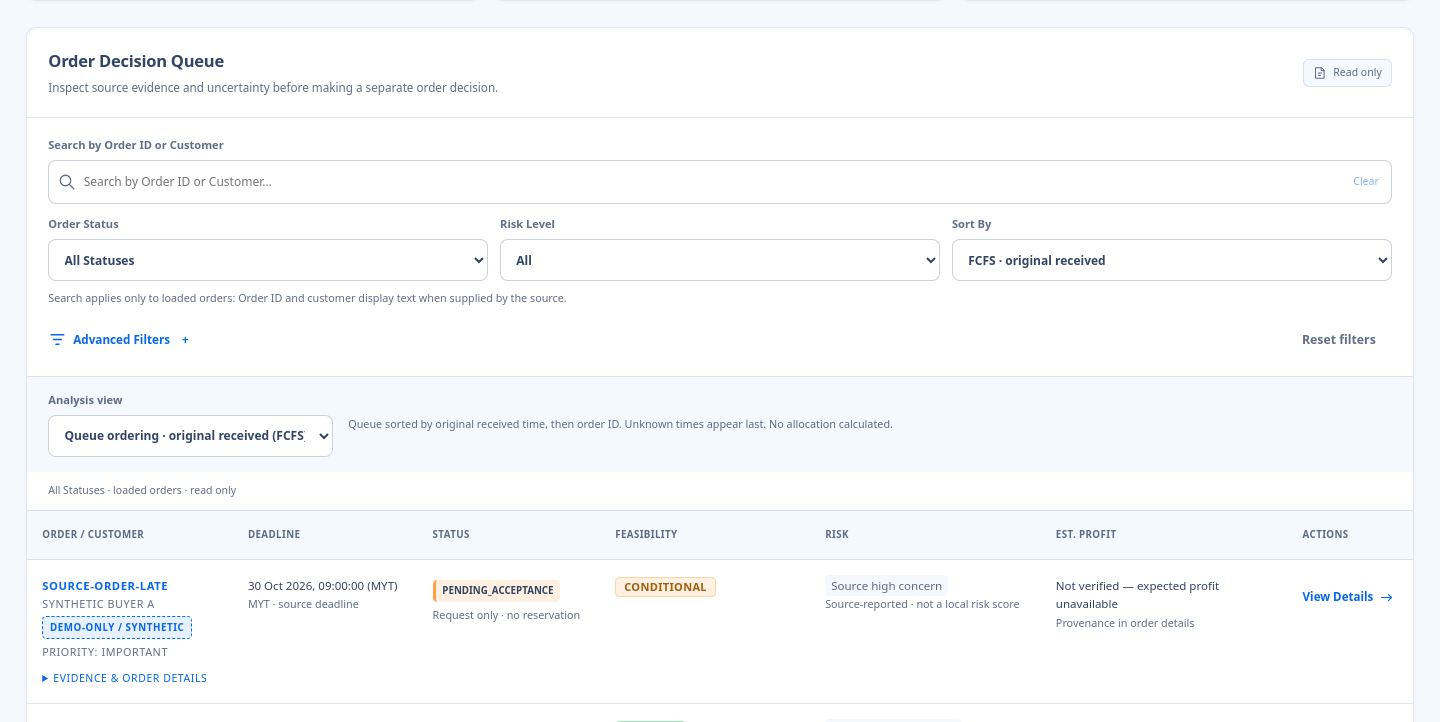
exposes advanced source-based filters and composes them with search, risk and Analysis
The width and height of the screenshot is (1440, 722).
(page scrolled)
Click the heading "Advanced Filters". click: (109, 340)
box: [48, 330, 170, 349]
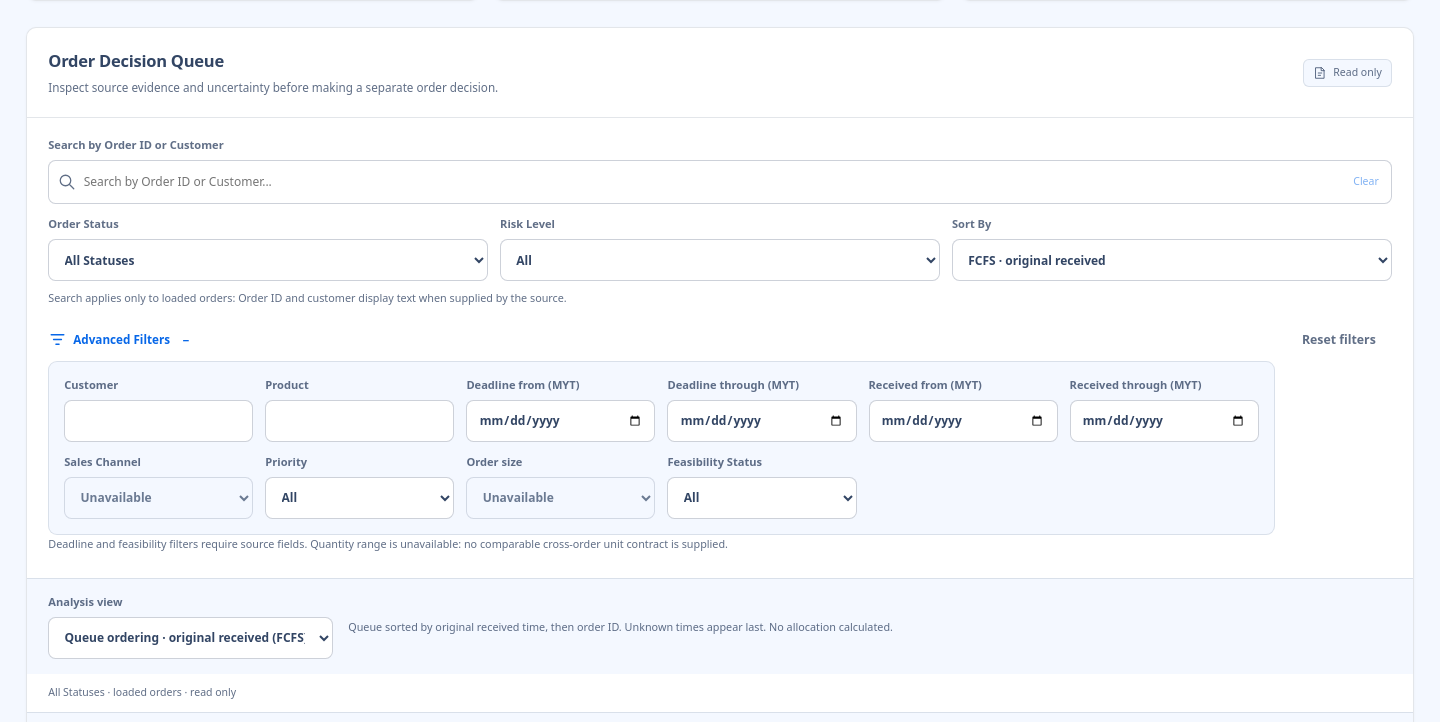
Type "2026-10-25" into the date field labelled "Deadline from (MYT)". click: (561, 421)
box: [466, 400, 656, 442]
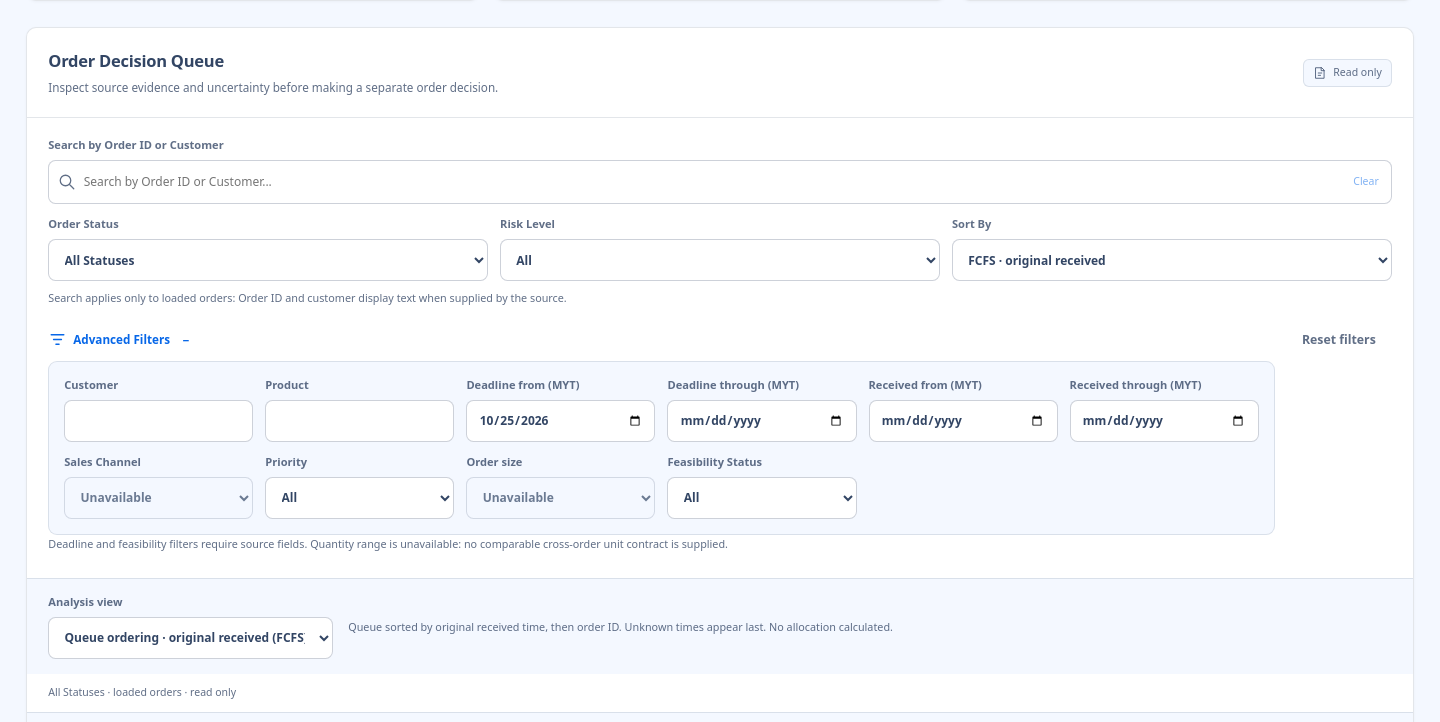
Type "2026-10-25" into the date field labelled "Deadline through (MYT)". click: (762, 421)
box: [667, 400, 856, 442]
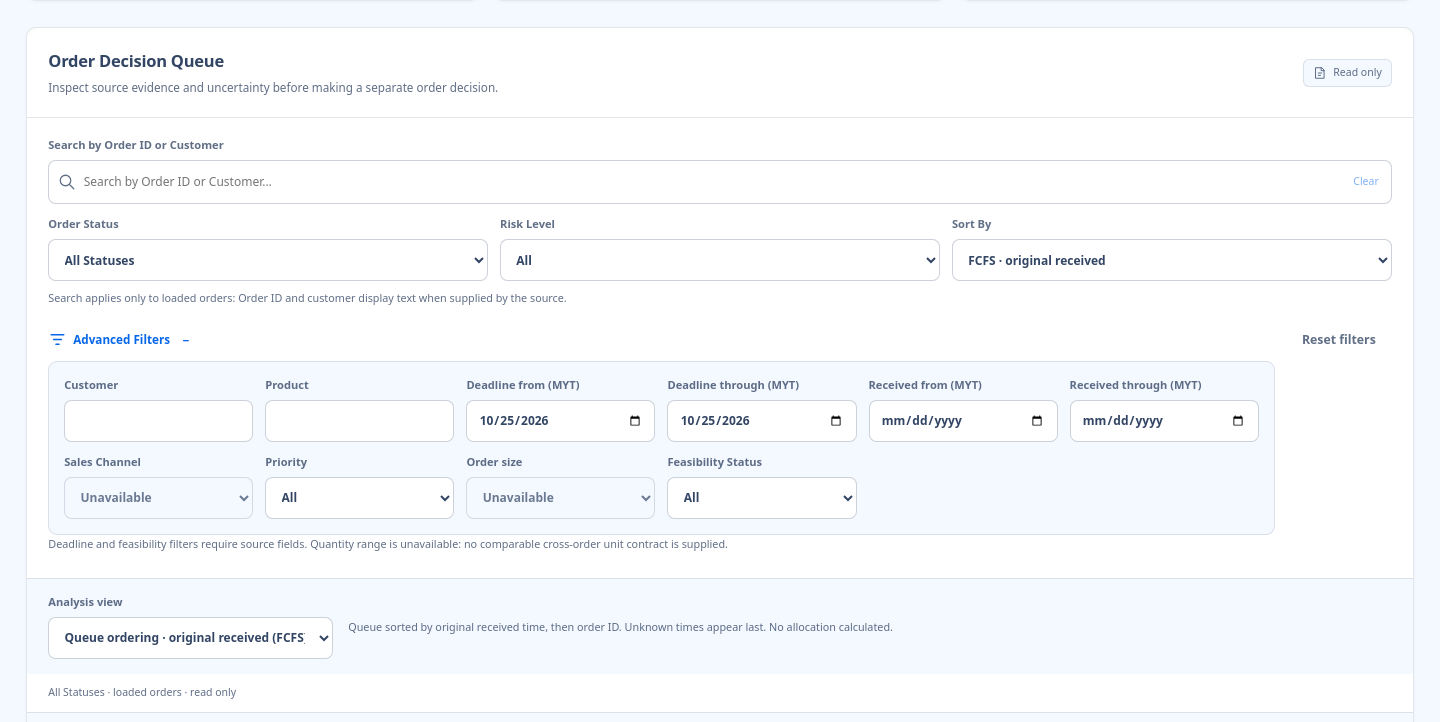
Select "FEASIBLE" in the dropdown labelled "Feasibility Status". click: (762, 498)
box: [667, 477, 856, 519]
Select "Source review required" in the dropdown labelled "Risk Level". click: (720, 260)
box: [500, 239, 940, 281]
Type "buyer b" into the search field labelled "Search by Order ID or Customer". click: (713, 182)
box: [84, 161, 1343, 203]
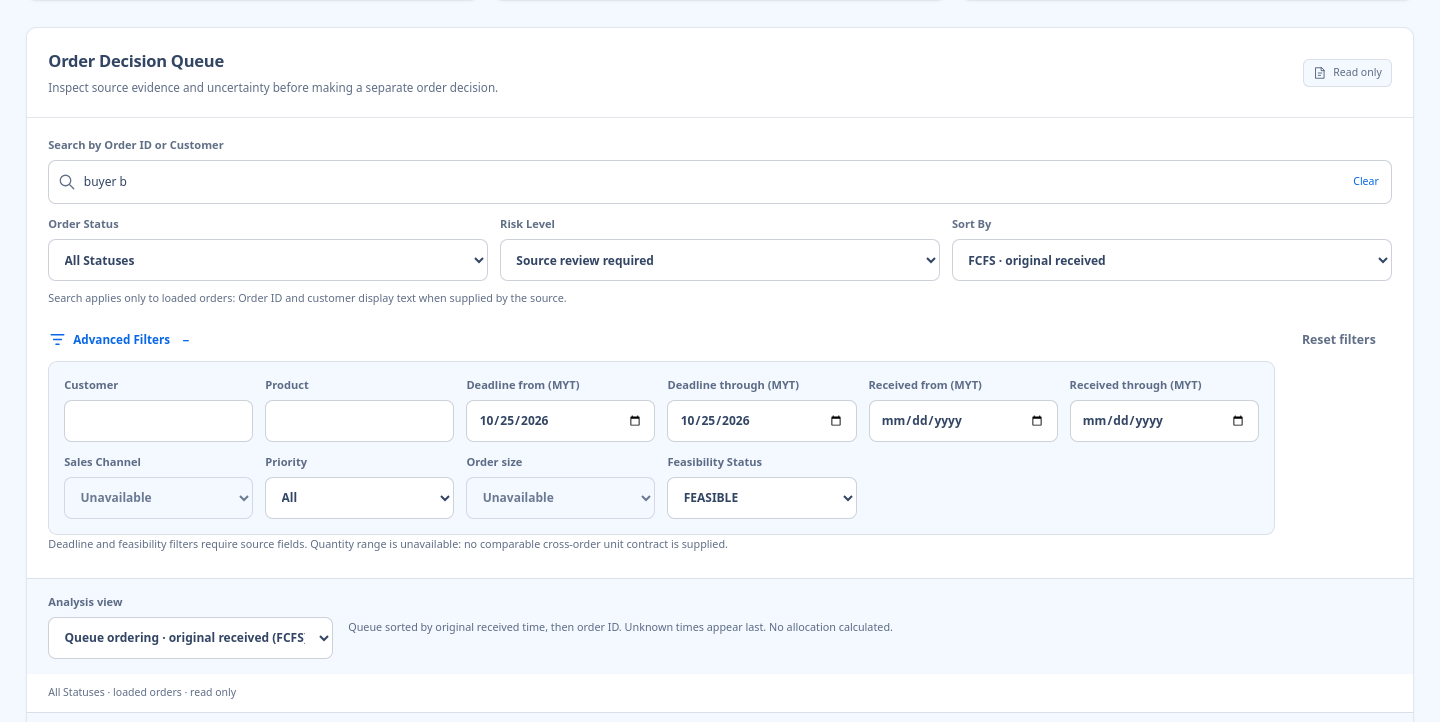
Select "Profit portfolio" in the dropdown labelled "Analysis view". click: (191, 638)
box: [48, 617, 333, 659]
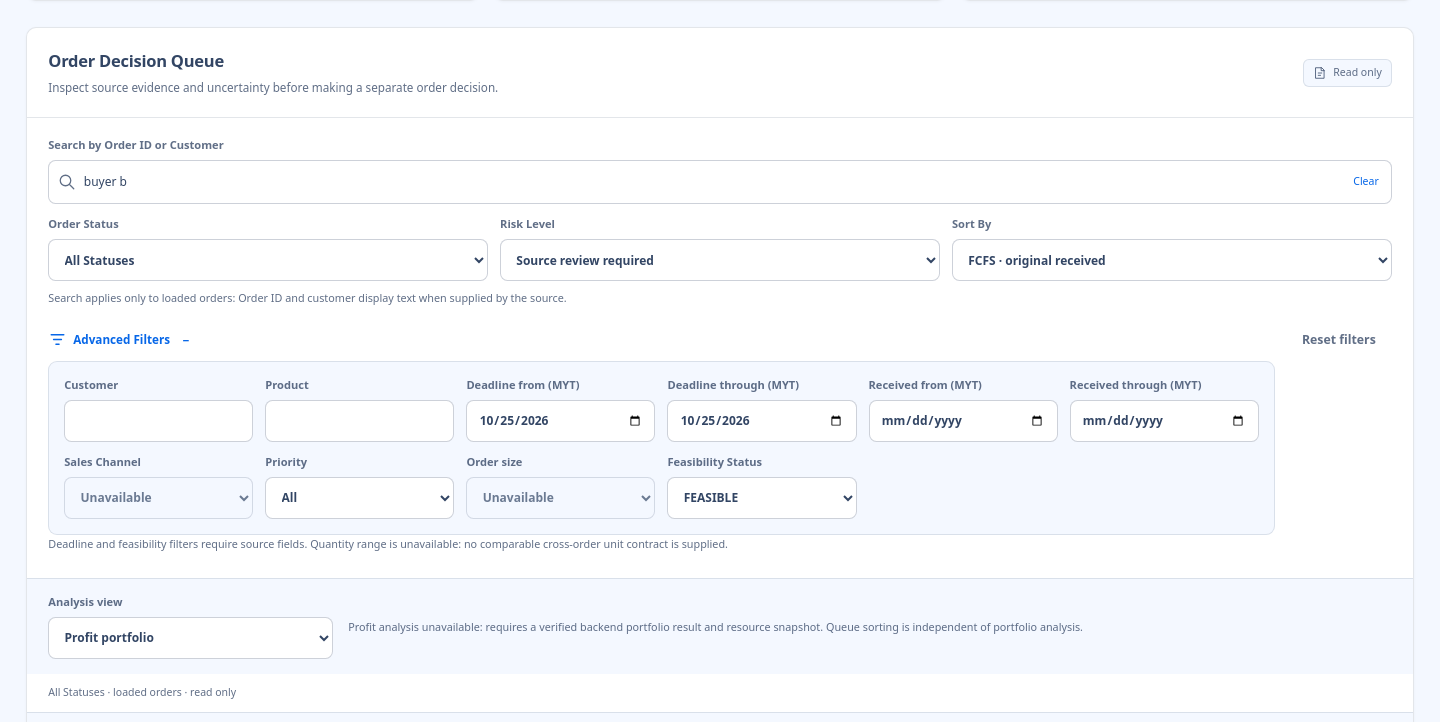
Now the text "Quantity range is unavailable" is shown, box [48, 536, 728, 551]
Click the button "Reset filters". click: (1339, 340)
box: [1286, 318, 1392, 360]
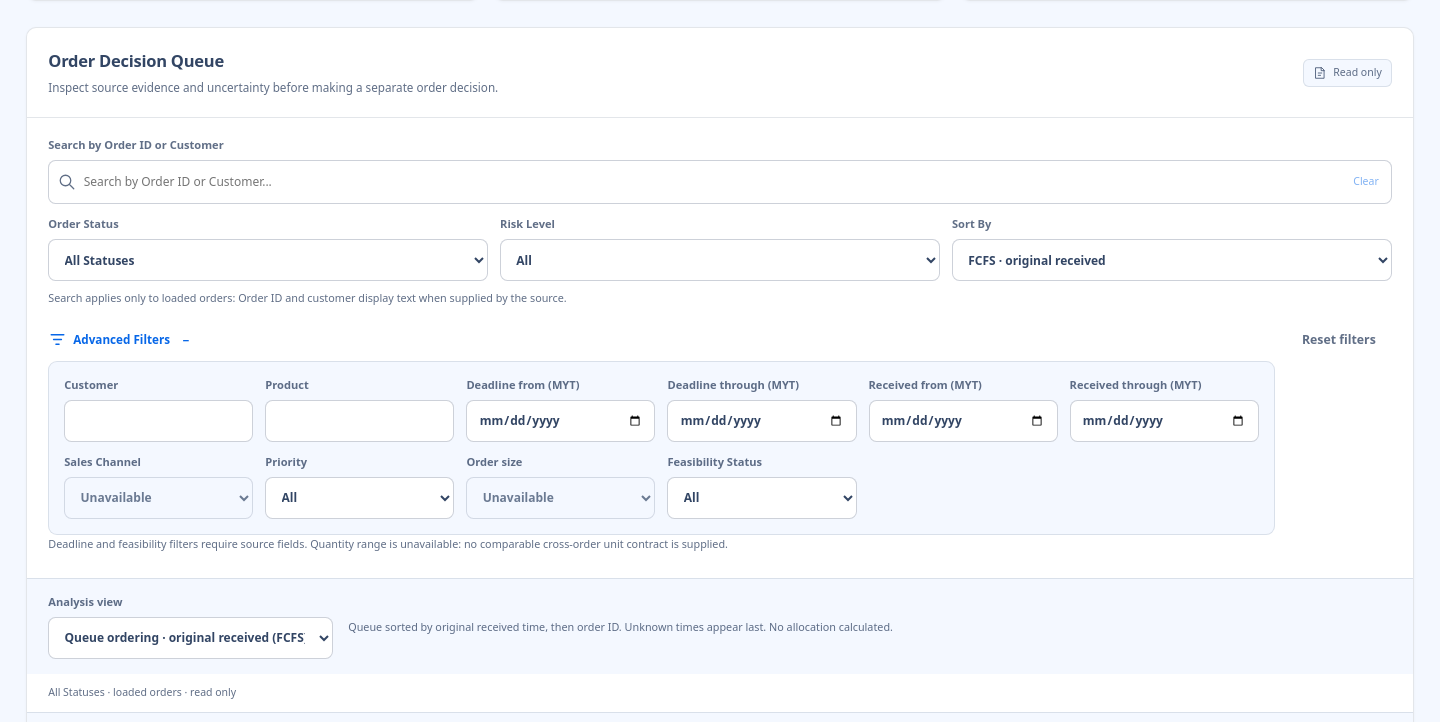
Expected: the dropdown labelled "Sort By" shows "FCFS · original received", [952, 239, 1392, 281]
Now the date field labelled "Deadline from (MYT)" is empty, box [466, 400, 656, 442]
Now the date field labelled "Deadline through (MYT)" is empty, box [667, 400, 856, 442]
